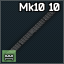Alexander Arms 10 inch rail: (0, 0, 64, 64)
